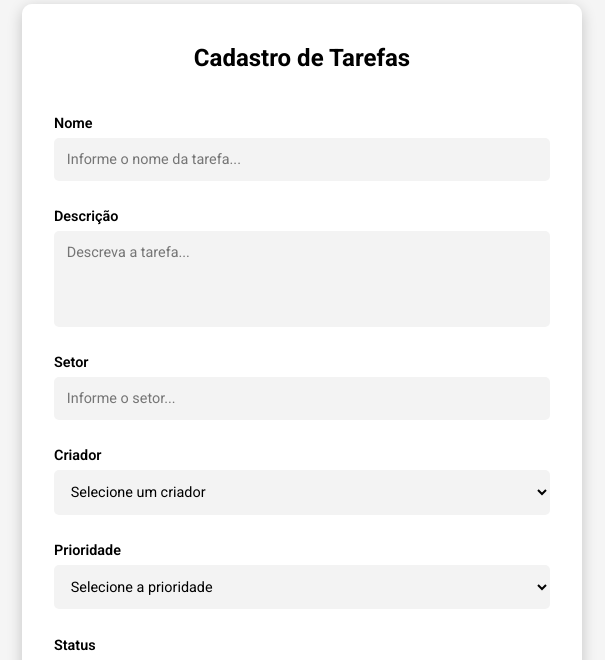
Validações no formulário de cadastro de tarefa › Deve mostrar erro quando nome tem menos de 5 caracteres
Step 1. Type "Abcd" into the field labelled "Nome" → (302, 160), box x1=54 y1=138 x2=550 y2=181
(page scrolled)
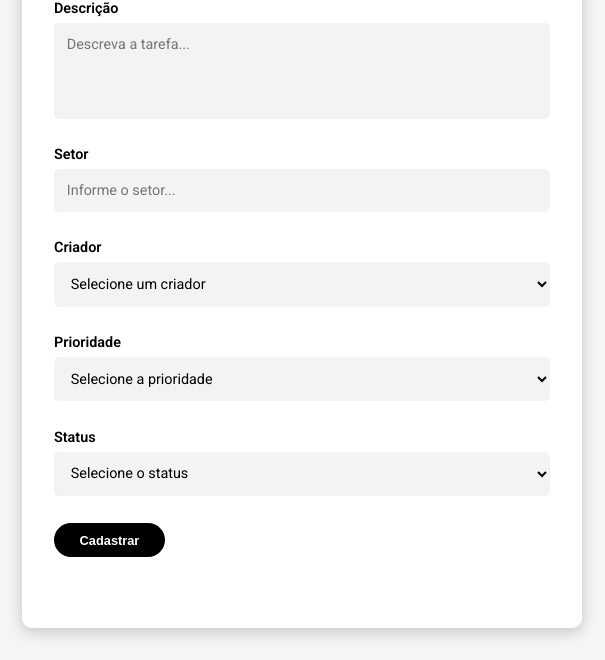
Step 2. Click the button "Cadastrar" → (109, 540), box x1=54 y1=523 x2=165 y2=558
(page scrolled)
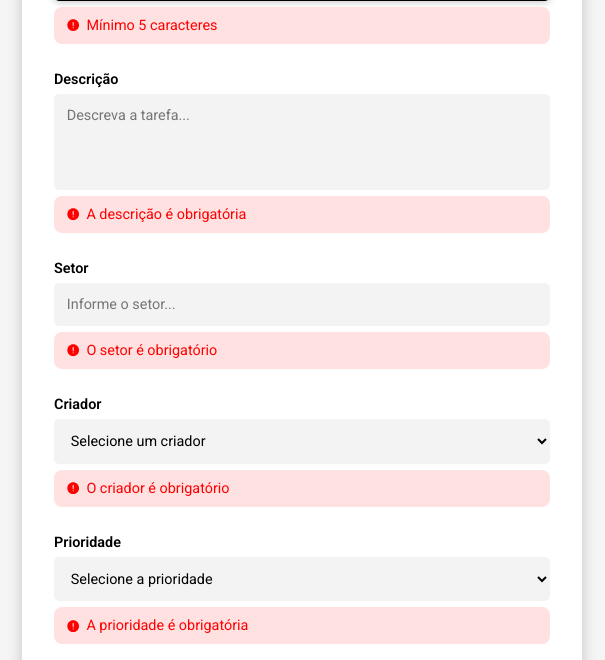
expect the text "Mínimo 5 caracteres" is shown: met, box x1=54 y1=7 x2=550 y2=44
